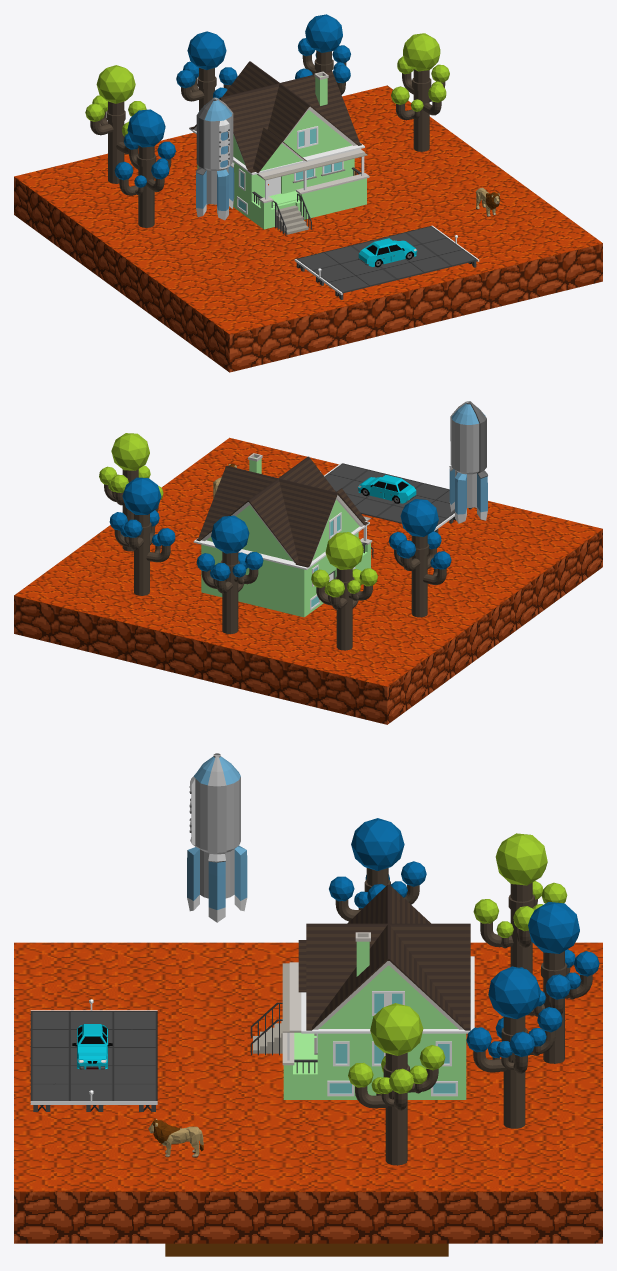
The picture shows the model from 3 angles, top to bottom: view 1: azimuth 30°, elevation 25°; view 2: azimuth 150°, elevation 25°; view 3: azimuth 270°, elevation 25°; orthographic projection. The views are drawn at different scales.
Parts seen in each view (by area): view 1: Cube.001, Cube.274, OBJRANDOM_ROCKETSHIP, VEHICLES_CAR; view 2: Cube.001, Cube.274, OBJRANDOM_ROCKETSHIP, VEHICLES_CAR; view 3: Cube.001, Cube.274, OBJRANDOM_ROCKETSHIP, UNDERGROUND_ART_PIECE_VAN_GOGH, VEHICLES_CAR, ANIMAL_LEON.
Boxes of the visible parts, x1,y1,x2,y2 form: Cube.001: (14,14,602,372); Cube.274: (189,61,369,235); OBJRANDOM_ROCKETSHIP: (195,97,234,220); VEHICLES_CAR: (358,238,417,267); Cube.001: (14,433,602,724); Cube.274: (193,453,373,617); OBJRANDOM_ROCKETSHIP: (449,401,487,523); VEHICLES_CAR: (358,475,416,503); Cube.001: (14,818,602,1243); Cube.274: (250,884,474,1099); OBJRANDOM_ROCKETSHIP: (187,753,247,922); UNDERGROUND_ART_PIECE_VAN_GOGH: (165,1243,448,1256); VEHICLES_CAR: (72,1024,112,1069); ANIMAL_LEON: (148,1119,203,1157).
Bounding box in the file's own units: 4000 × 2301 × 4000.
39 materials, 5 textured.
